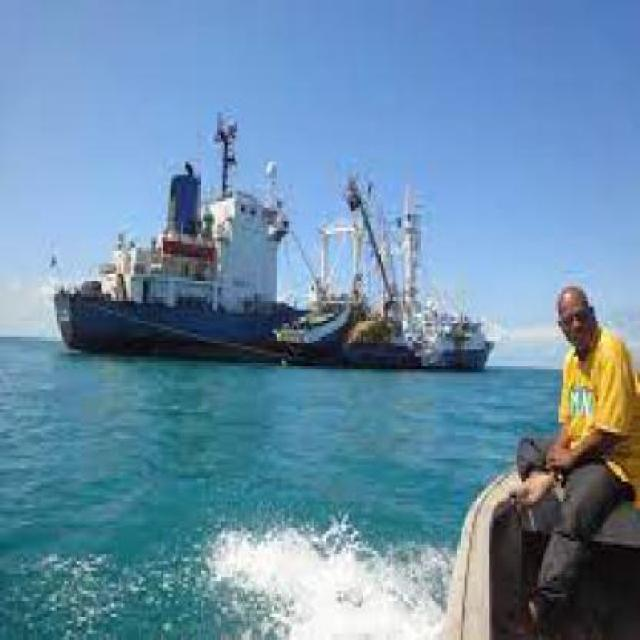fish-b: (33, 114, 513, 391)
